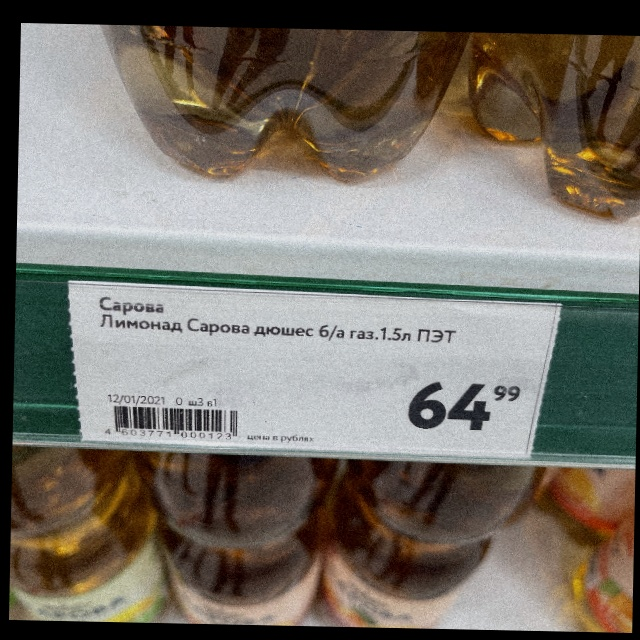barcode: (99, 400, 249, 444)
name: (92, 292, 479, 350)
price: (402, 371, 524, 443)
price_tag: (66, 278, 562, 463)
